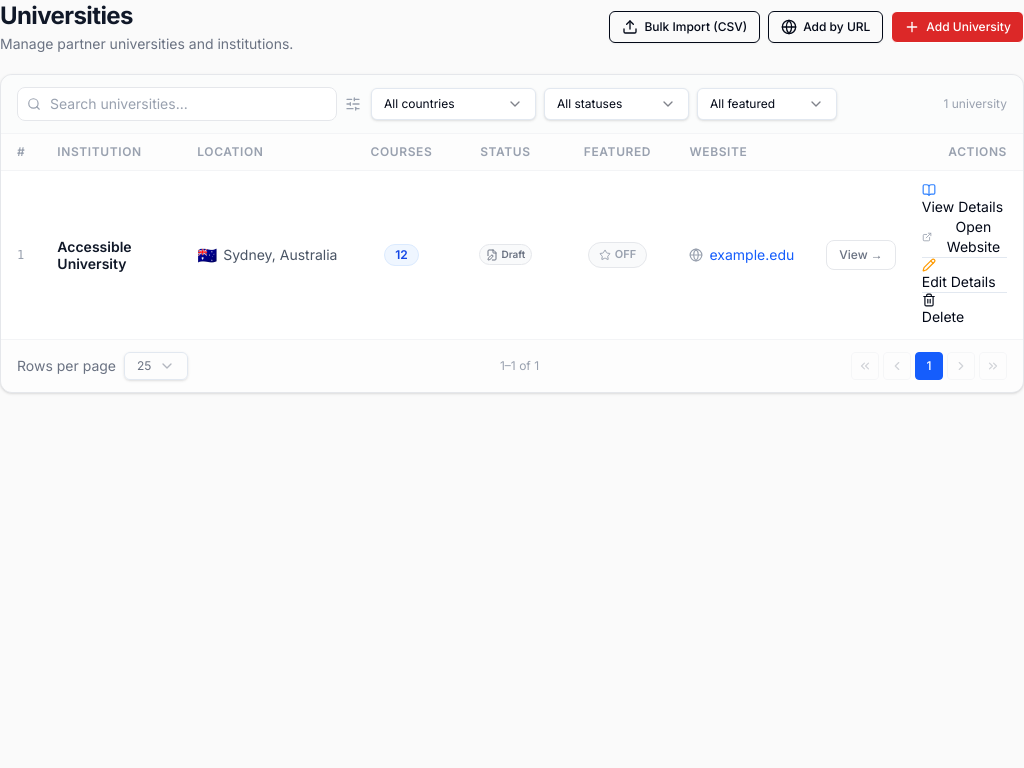
it: Universities dialogs › opens the featured confirmation dialog
Click the button titled "Mark as Featured" at [618, 255], box [588, 242, 647, 268]
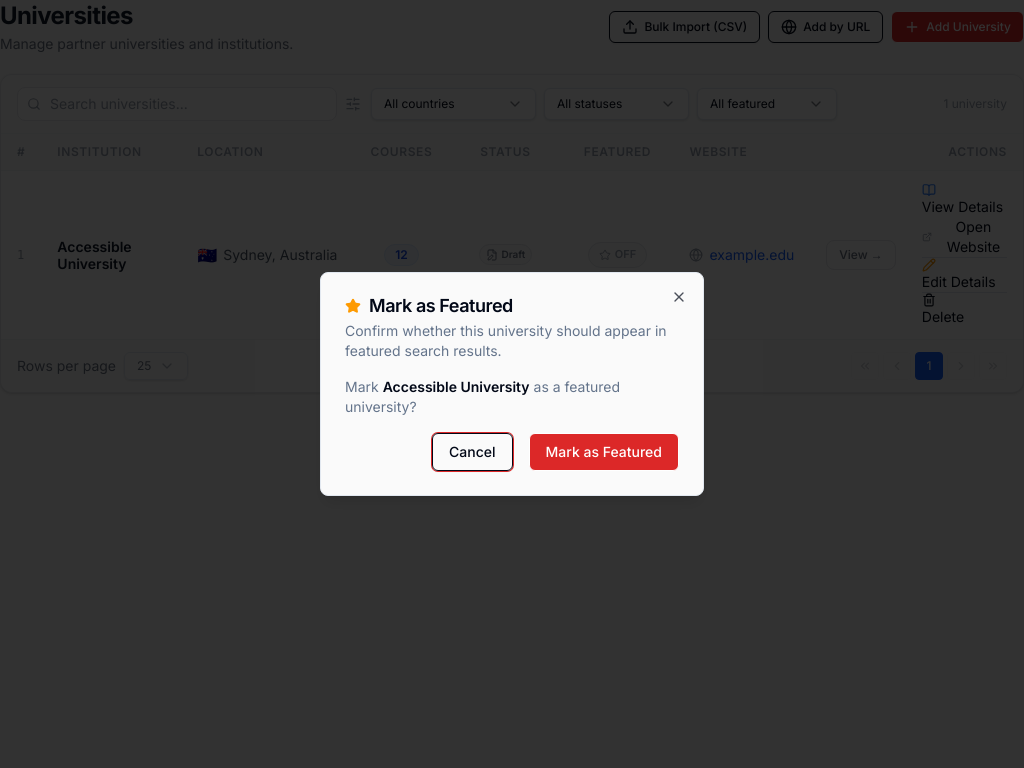
Check: the dialog "Mark as Featured" is shown, box [320, 272, 704, 496]
